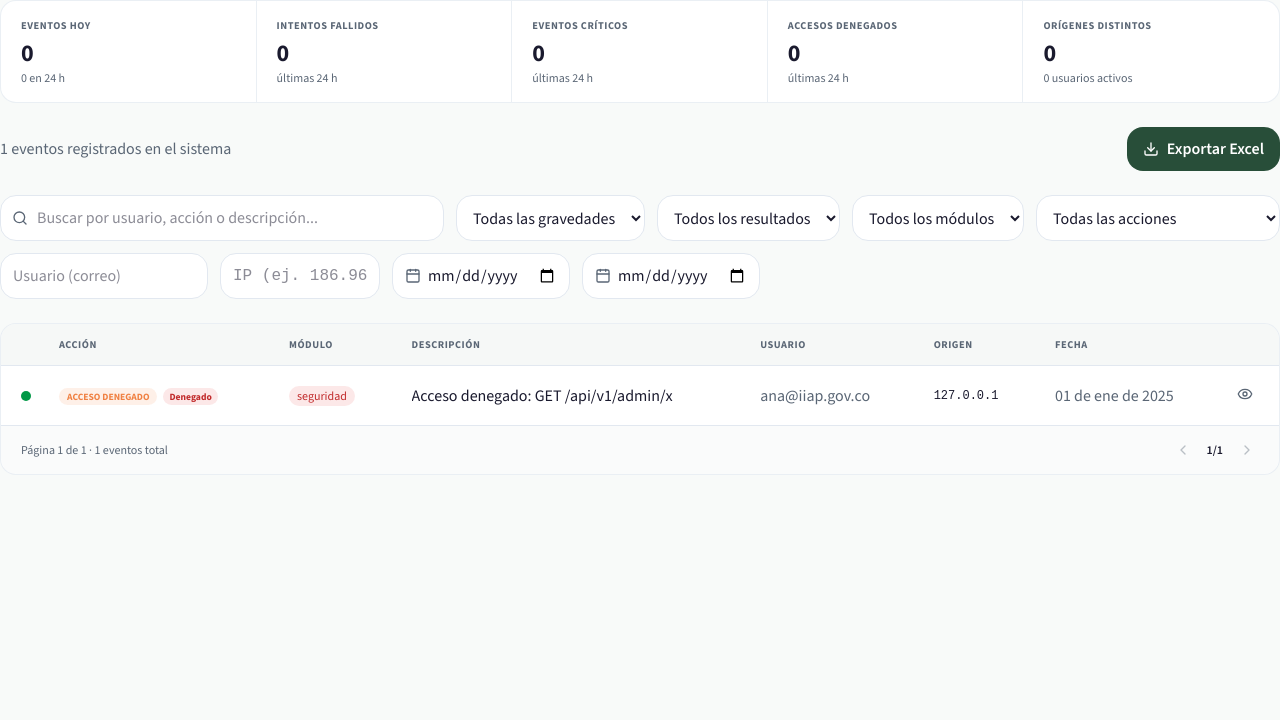
Test: AuditoriaTab — fase 2 (resultado, cambios y accesos denegados) › el detalle de un acceso denegado muestra el ID de petición y no tiene tabla de cambios
Step 1. Click the button named "Ver detalle de Acceso denegado" → x=1245, y=394, box 1231,380 -> 1259,408
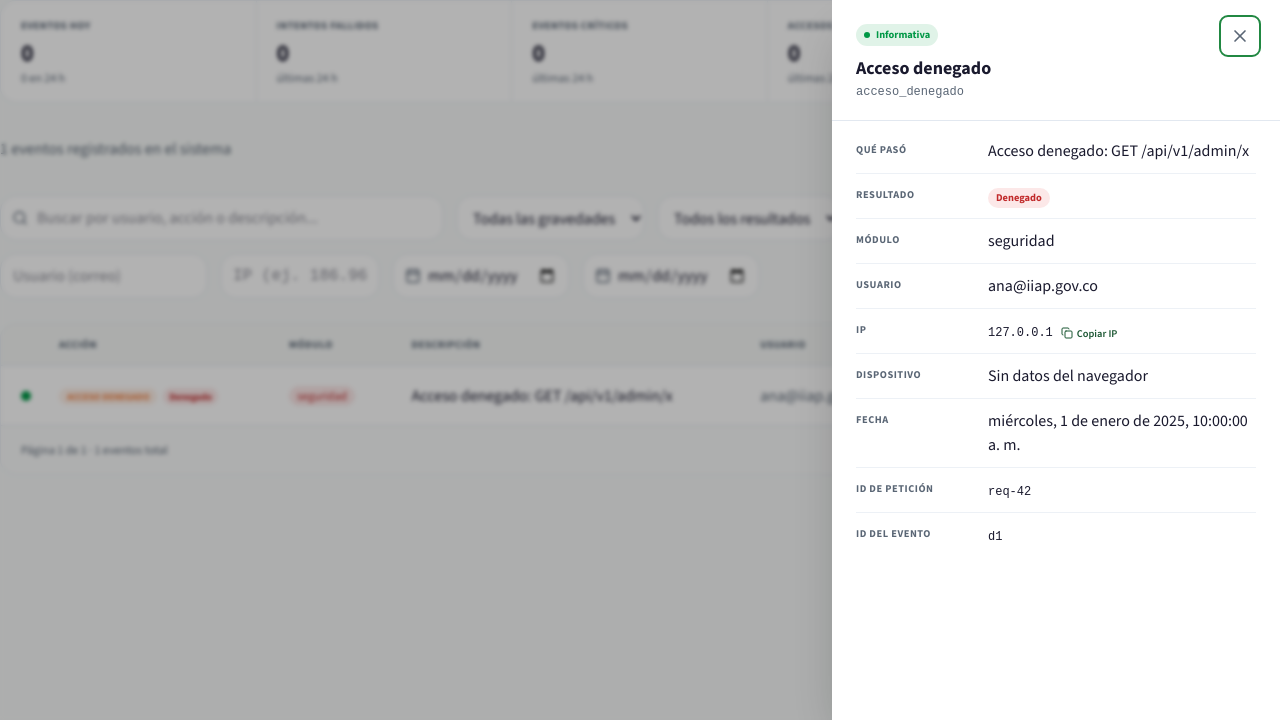
Now the text "req-42" is shown, box 988,485 -> 1031,499
